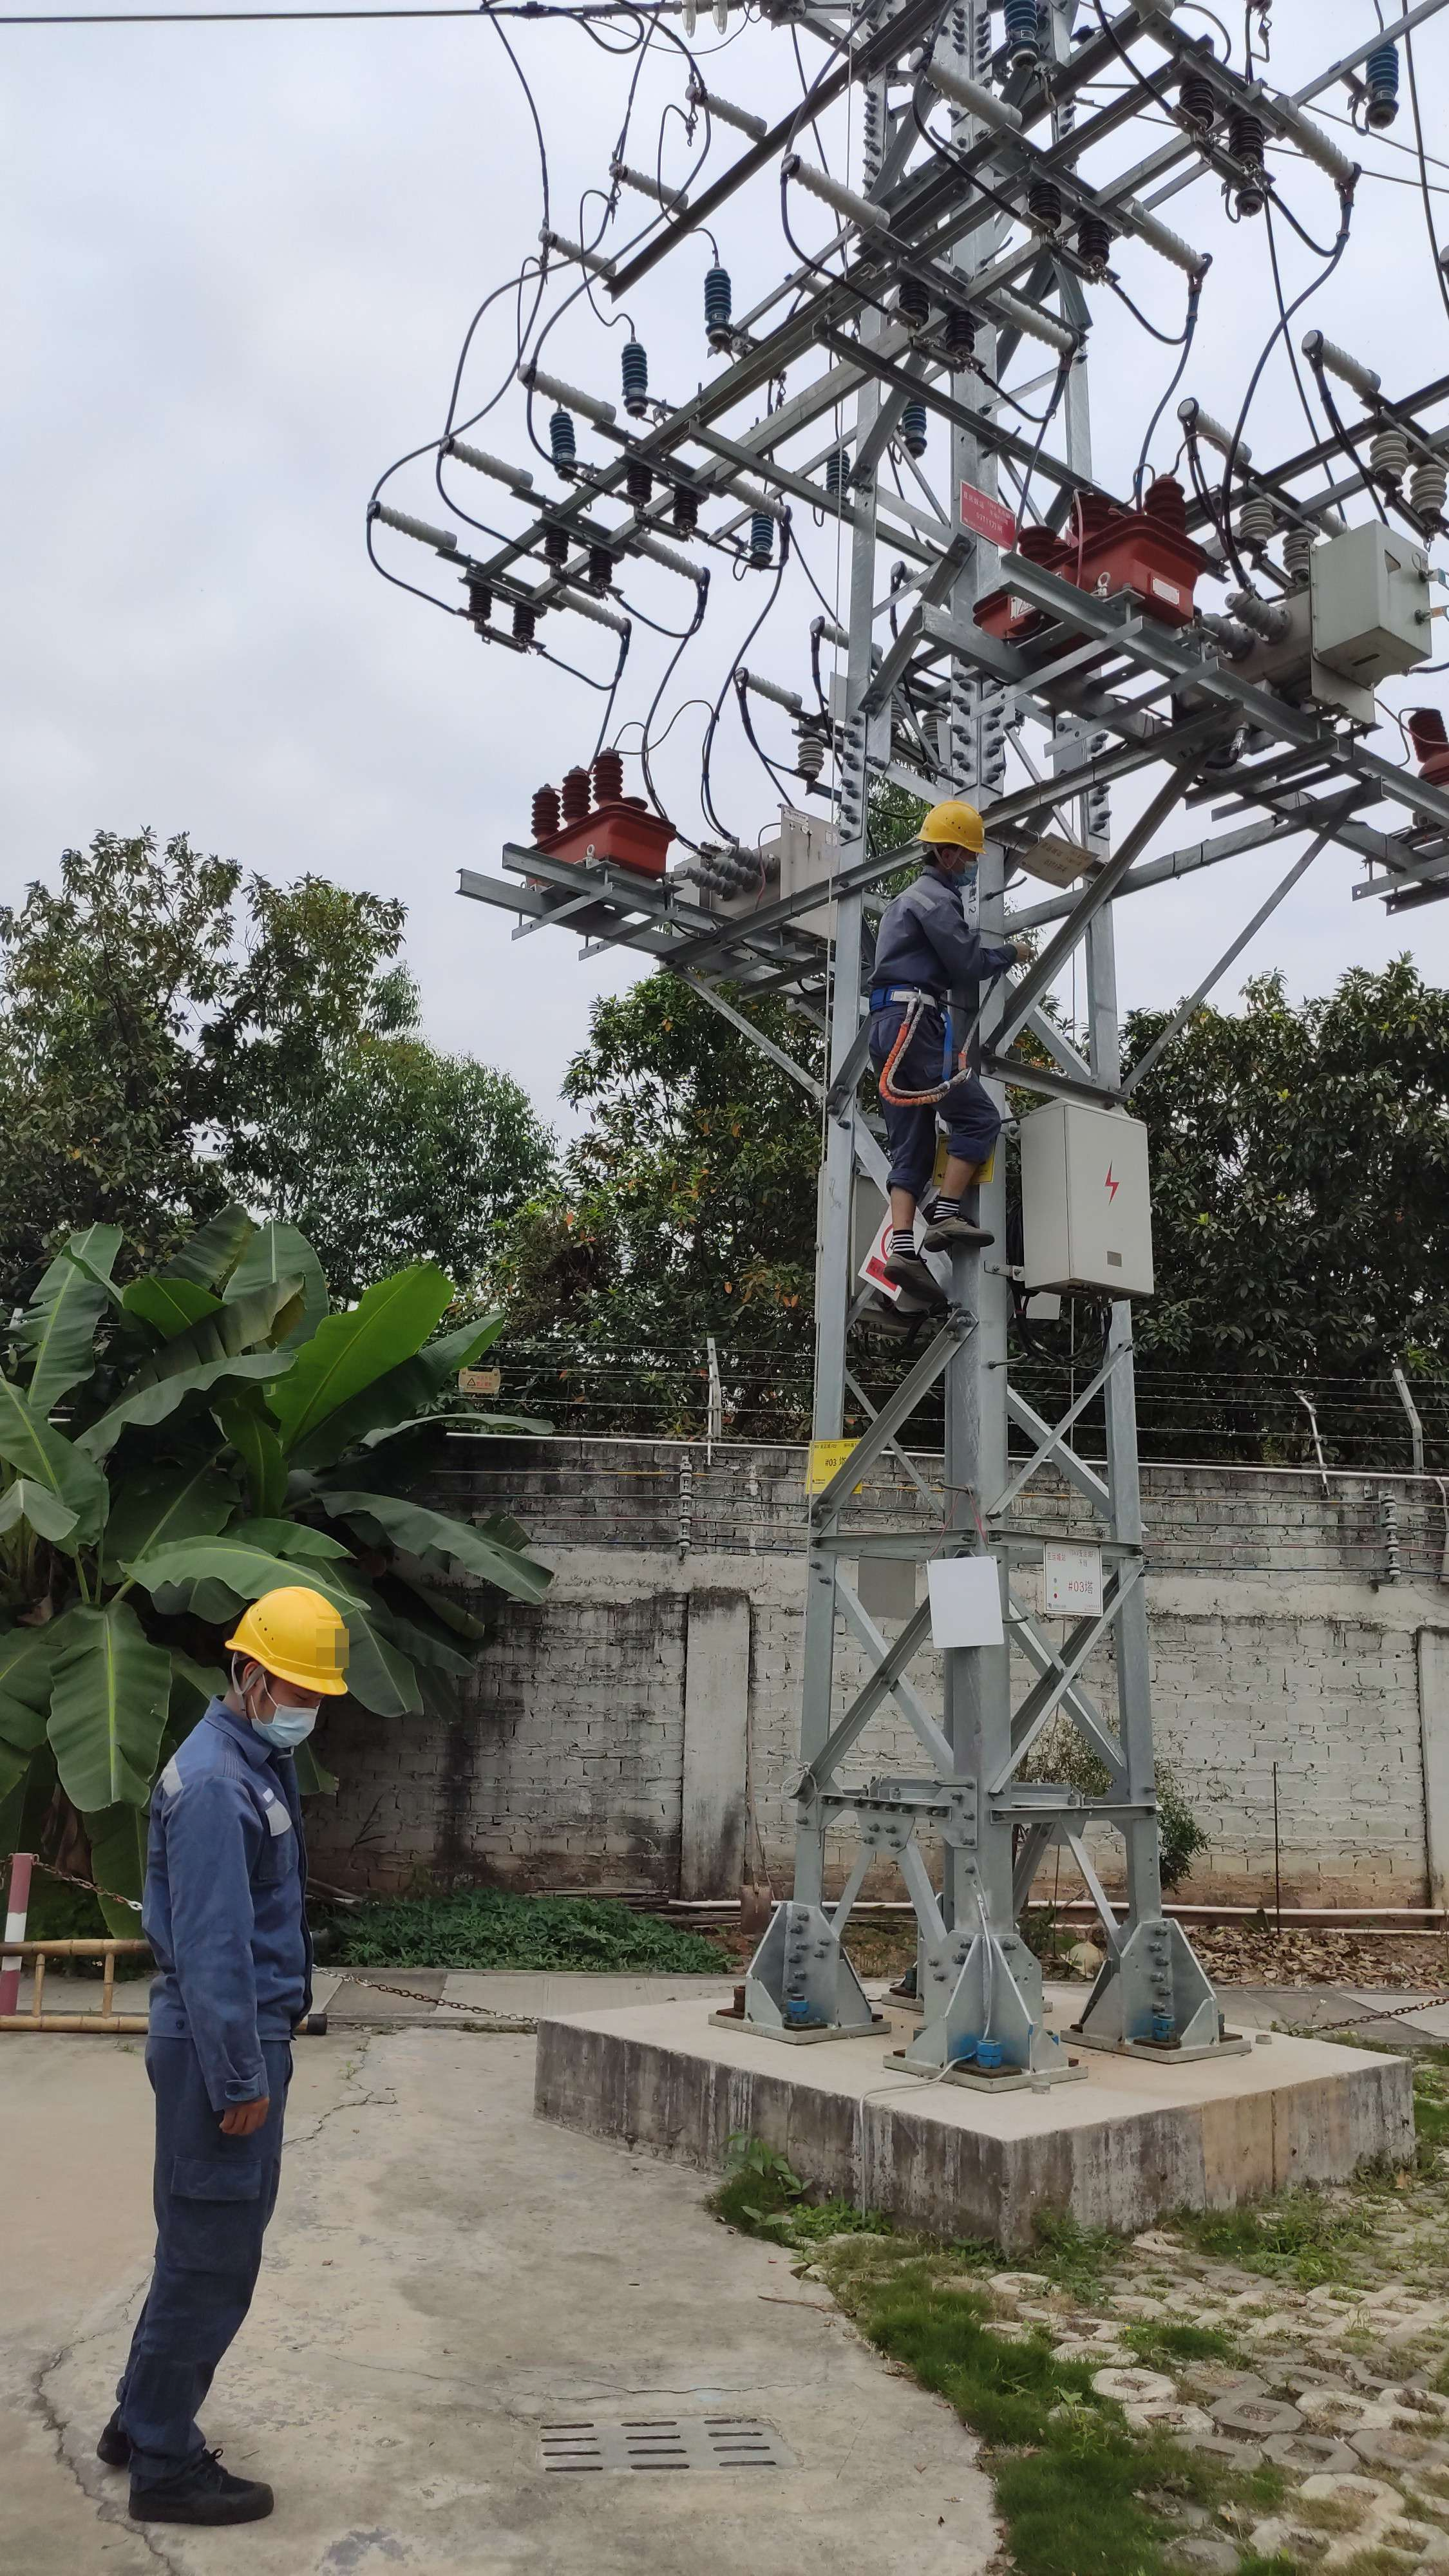downsuit: (111, 2038, 301, 2442), (842, 1008, 1016, 1200)
upsuit: (142, 1693, 322, 2100), (870, 874, 1007, 1017)
wrongbottom: (878, 1150, 929, 1251), (936, 1127, 996, 1210)
